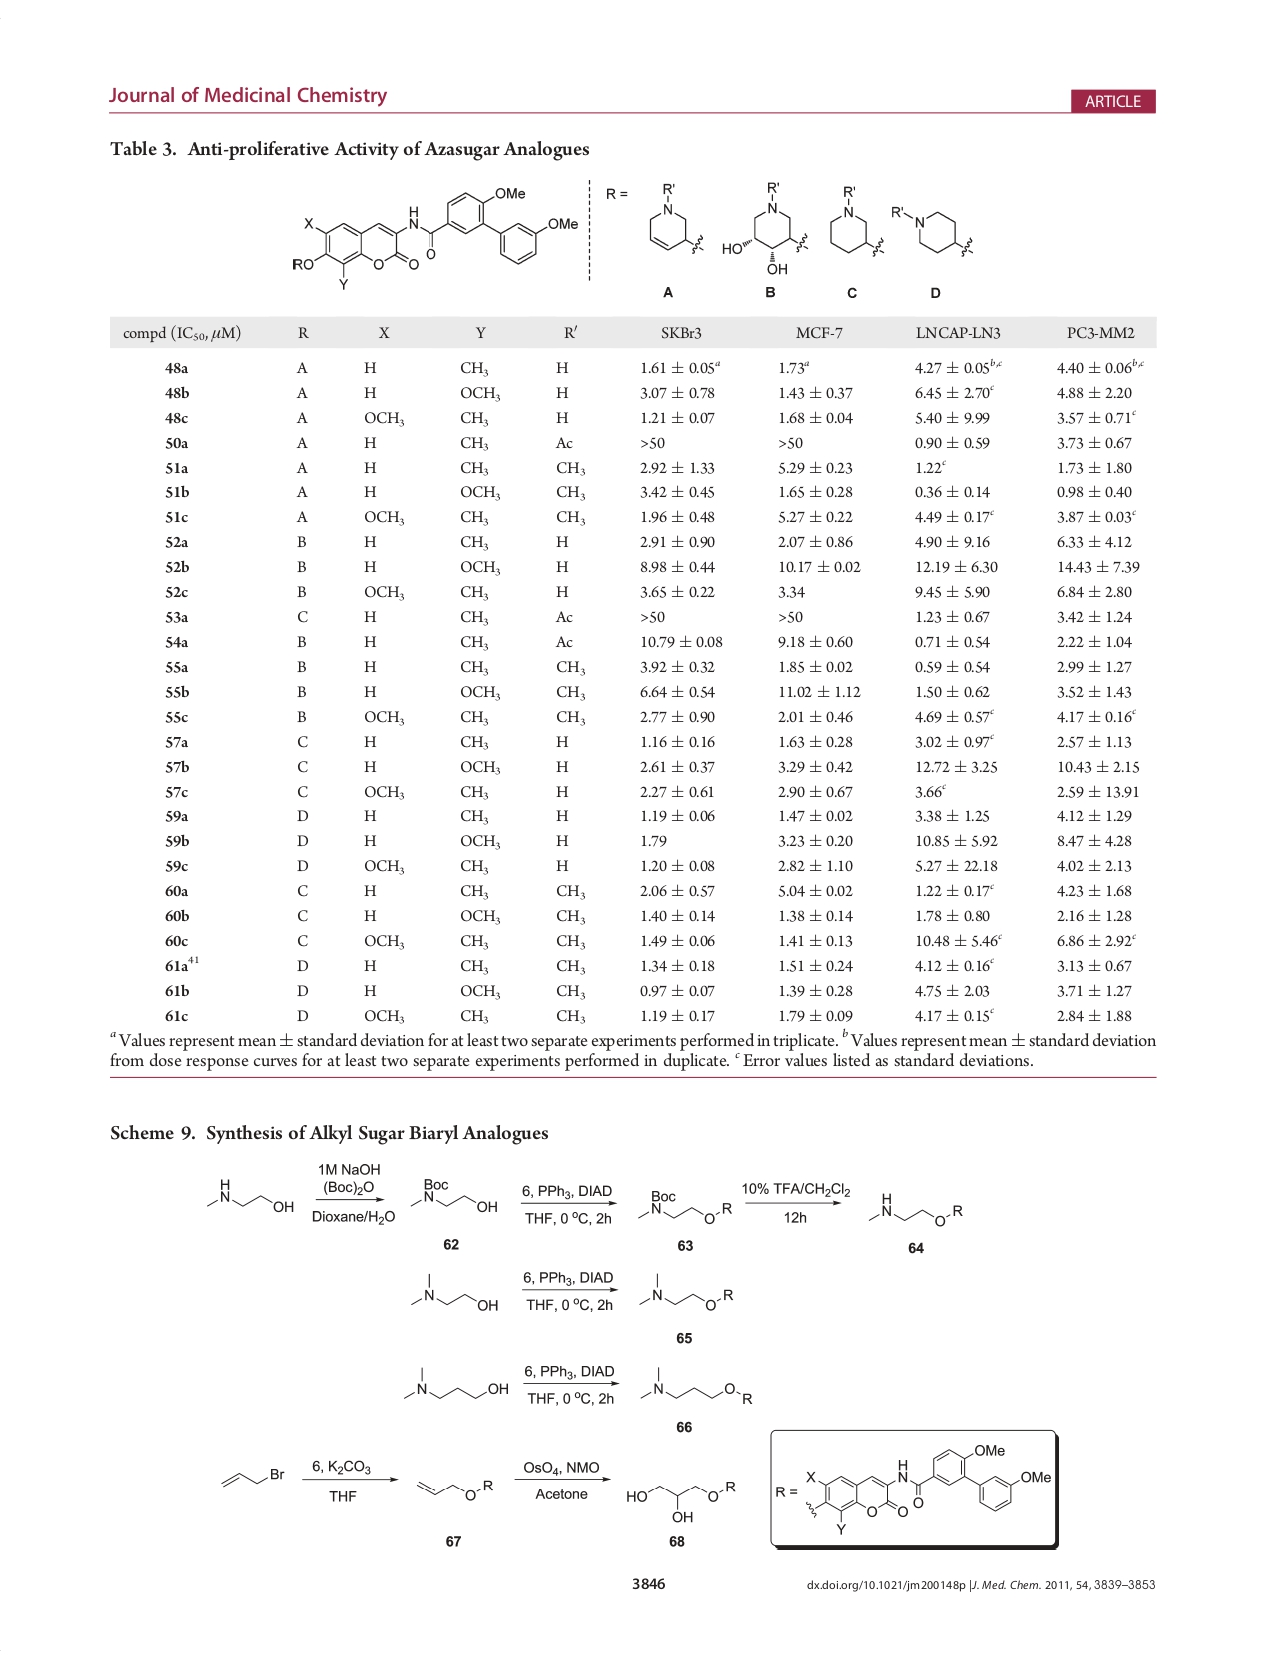exist_molecular: (291, 180, 578, 293), (801, 1439, 1049, 1533), (719, 172, 809, 277), (633, 1356, 754, 1412), (821, 170, 890, 265), (620, 1475, 743, 1527), (890, 195, 976, 263), (632, 1263, 734, 1317), (862, 1185, 969, 1235), (399, 1358, 509, 1407), (646, 177, 707, 261), (629, 1184, 735, 1230), (407, 1265, 501, 1317), (404, 1173, 504, 1220), (202, 1172, 294, 1216), (411, 1466, 493, 1507), (211, 1462, 285, 1497)
